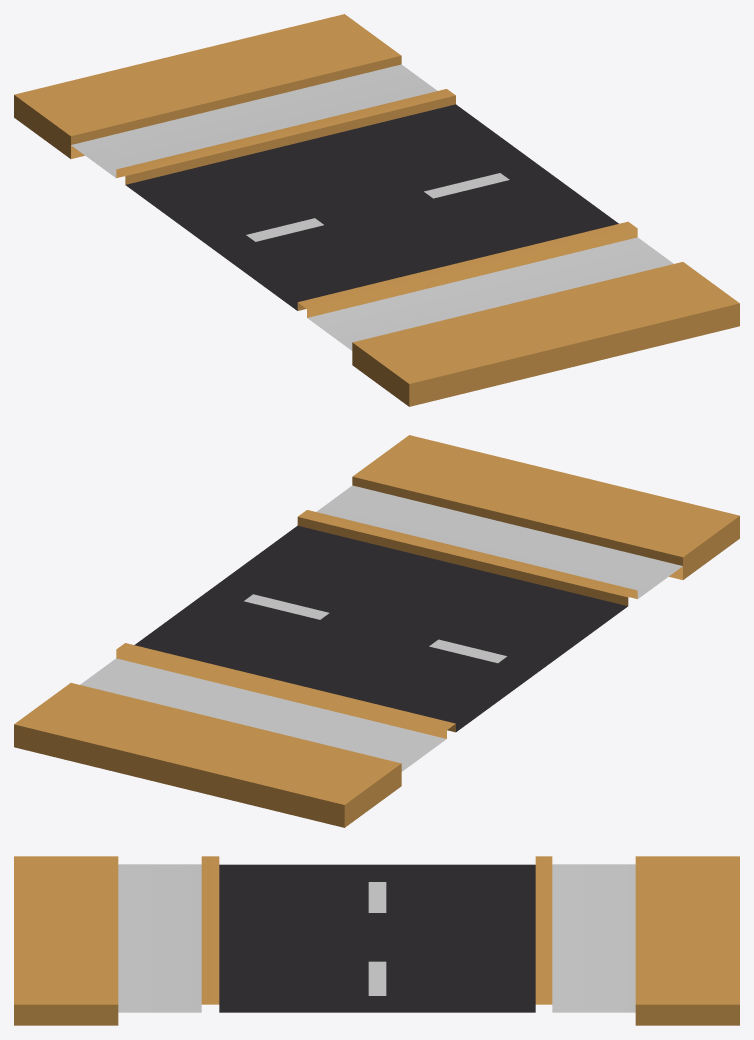
The model's file is Short.fbx.
3 renders of one model, top to bottom at view 1: azimuth 30°, elevation 25°; view 2: azimuth 150°, elevation 25°; view 3: azimuth 270°, elevation 25°, orthographic. The views are drawn at different scales.
Parts seen in each view (by area): view 1: Cube.003; view 2: Cube.003; view 3: Cube.003.
Part boxes in pixels (left/top/right/bottom): Cube.003: left=14, top=14, right=739, bottom=406; Cube.003: left=14, top=435, right=739, bottom=827; Cube.003: left=14, top=856, right=739, bottom=1025.
Bounding box in the file's own units: 336 × 22.21 × 695.
